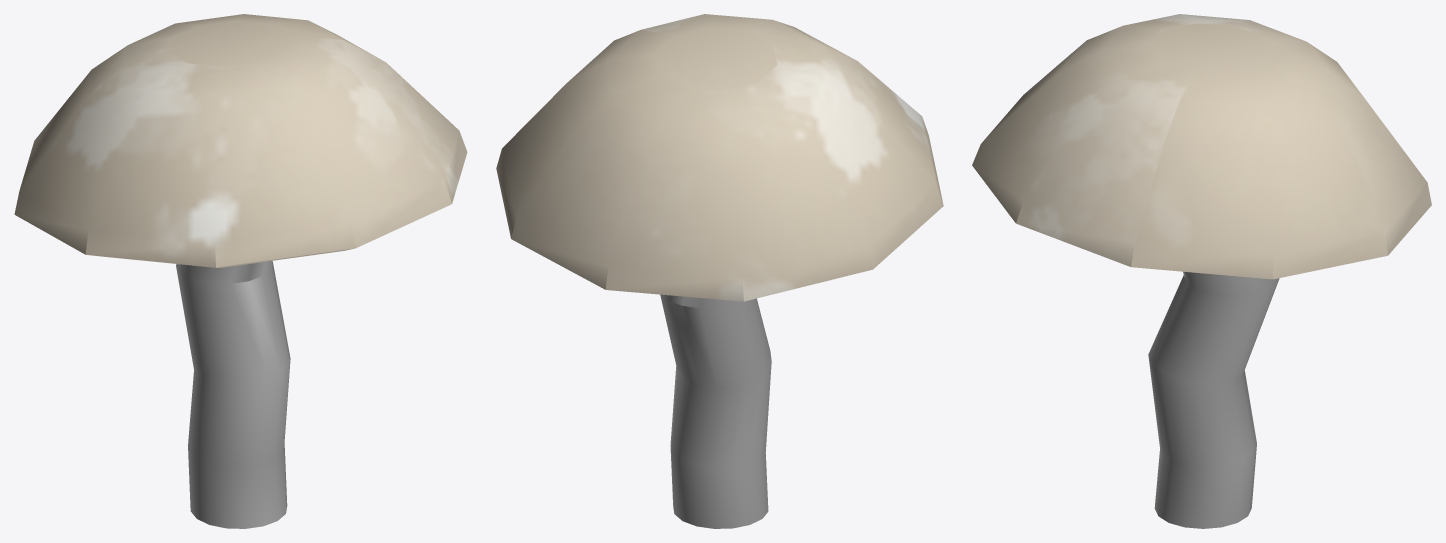
Rendered from Sm_Fungus2L.fbx.
The picture shows the model from 3 angles, left to right: view 1: azimuth 30°, elevation 25°; view 2: azimuth 150°, elevation 25°; view 3: azimuth 270°, elevation 25°; orthographic projection.
Parts seen in each view (by area): view 1: Sm_Fungus2L; view 2: Sm_Fungus2L; view 3: Sm_Fungus2L.
Part boxes in pixels (<box>): Sm_Fungus2L: <box>14,14,467,528</box>; Sm_Fungus2L: <box>496,14,943,528</box>; Sm_Fungus2L: <box>972,14,1431,528</box>.
Size of the model in its own units: 16.9 by 19.68 by 17.68.
